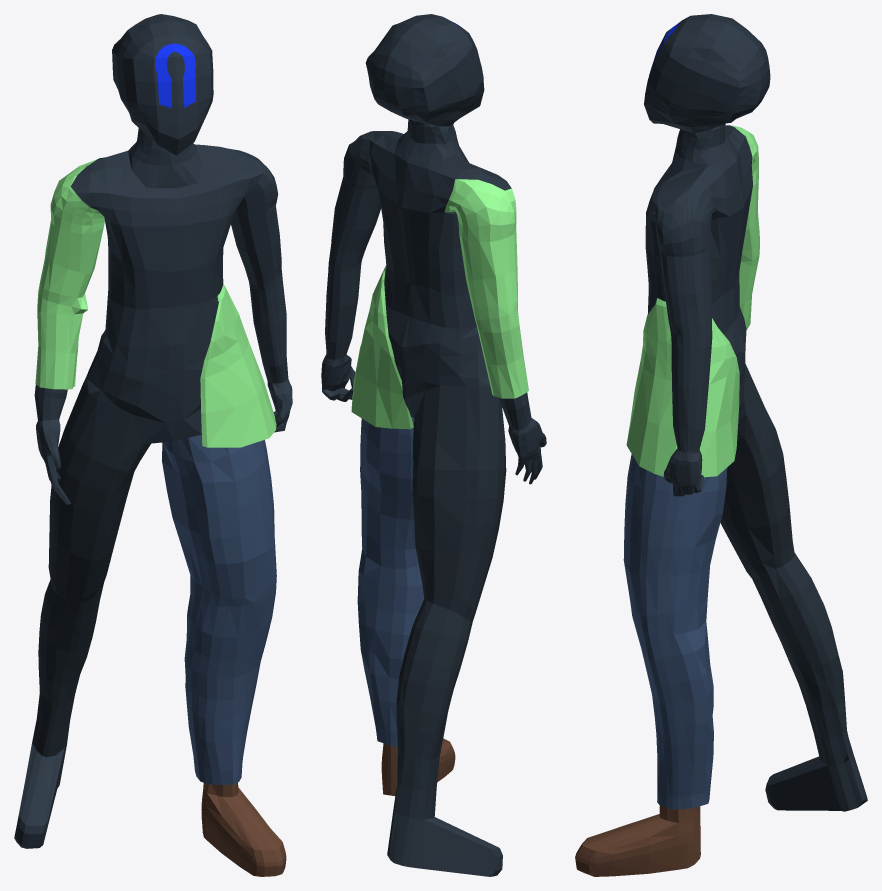
Rendered from Mar_Recover_000004.obj.
The picture shows the model from 3 angles, left to right: view 1: azimuth 30°, elevation 25°; view 2: azimuth 150°, elevation 25°; view 3: azimuth 270°, elevation 25°; orthographic projection. The views are drawn at different scales.
Visible parts, largest first — view 1: Cube.000_Cube.001; view 2: Cube.000_Cube.001; view 3: Cube.000_Cube.001.
Part boxes in pixels (<box>): Cube.000_Cube.001: <box>14,14,292,876</box>; Cube.000_Cube.001: <box>321,14,546,876</box>; Cube.000_Cube.001: <box>575,14,867,876</box>.
Bounding box in the file's own units: 1.17 × 3.98 × 1.26.
